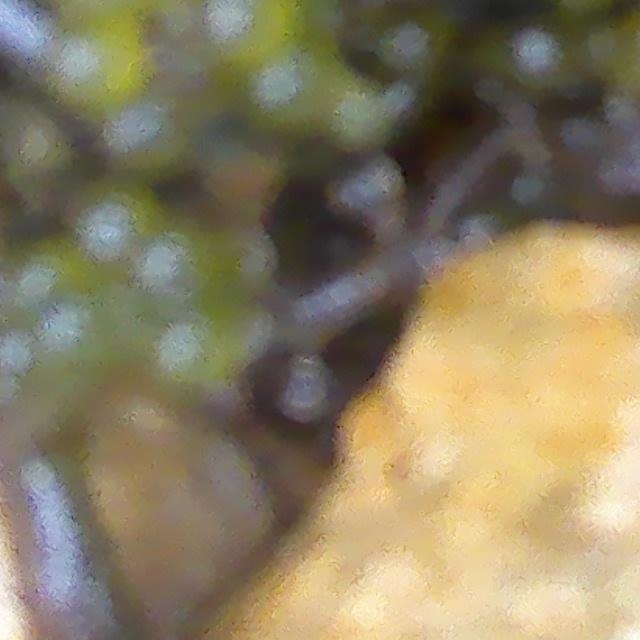SeaGrape: (156, 218, 221, 319), (42, 289, 114, 373), (82, 185, 140, 264)
